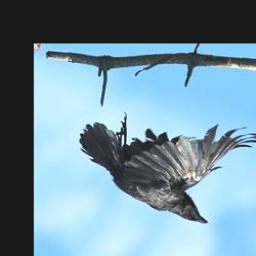Crow: (82, 111, 256, 226)
